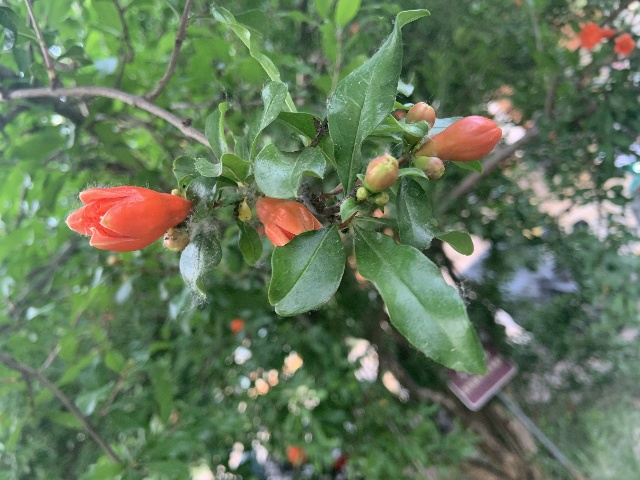bud: (417, 115, 503, 161), (364, 154, 399, 191), (406, 101, 435, 143), (413, 155, 444, 180)
flower: (66, 185, 192, 251), (255, 196, 323, 246), (576, 22, 611, 51), (613, 32, 635, 57)
